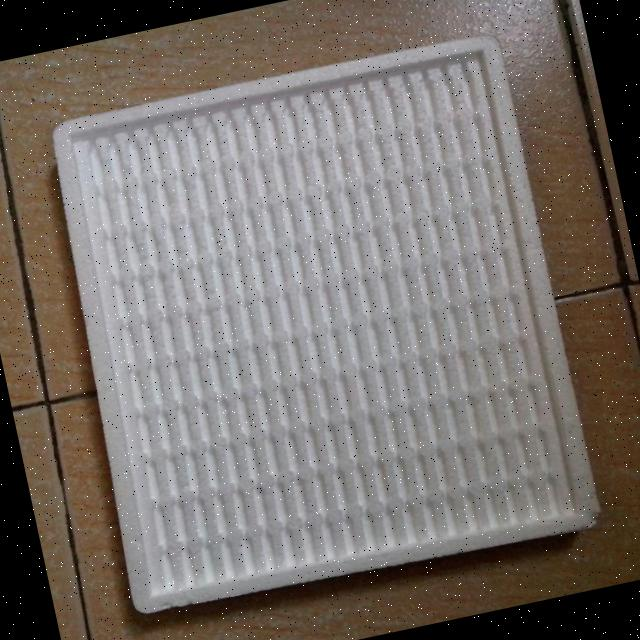styrofoam: (29, 26, 606, 624)
